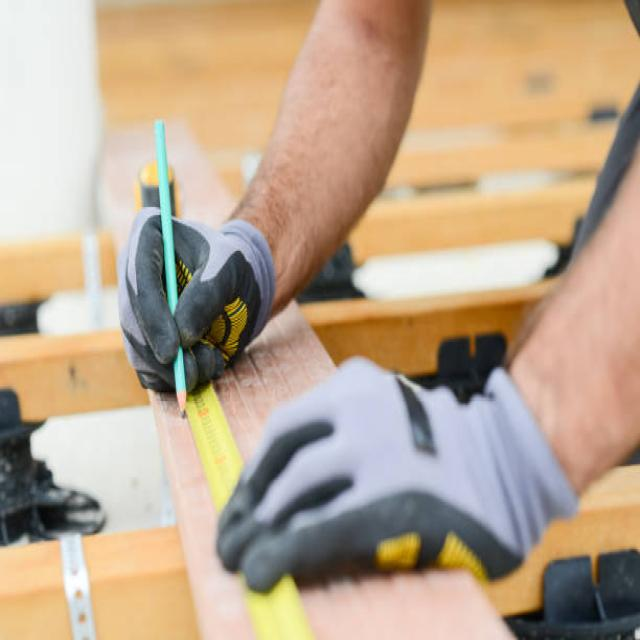gloves: (215, 353, 582, 577), (118, 204, 275, 398)
